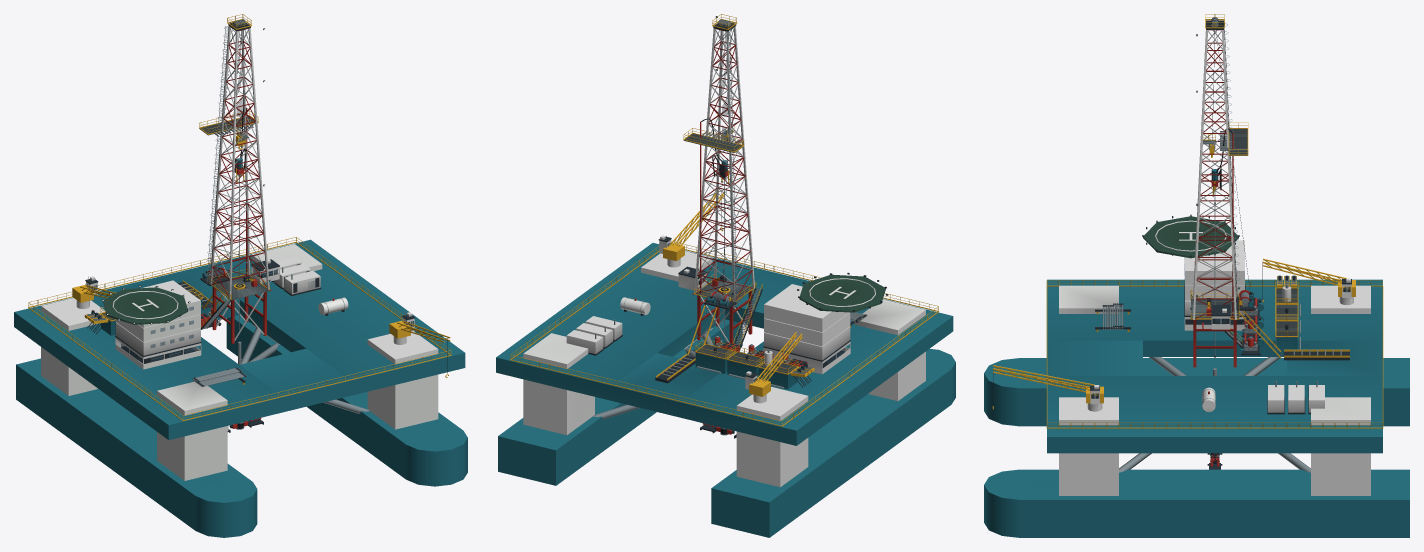
The model's file is semi_submersible_lodm.glb.
3 views of the same model, side by side, from view 1: azimuth 30°, elevation 25°; view 2: azimuth 150°, elevation 25°; view 3: azimuth 270°, elevation 25° (orthographic). The views are drawn at different scales.
Visible parts, largest first — view 1: main_deck_surface_blue, pontoons_surface_blue, columns_surface_white, derrick_surface_white, accommodation_surface_white, deck_handrails_surface_yellow, derrick_surface_red, helideck_surface_green, generators_surface_white, ladder_surface_steel, substructure_surface_red, columns_surface_steel (+4 smaller); view 2: main_deck_surface_blue, pontoons_surface_blue, columns_surface_white, accommodation_surface_white, derrick_surface_white, deck_handrails_surface_yellow, helideck_surface_green, derrick_surface_red, generators_surface_white, mud_tanks_surface_blue, ladder_surface_steel, mud_tanks_surface_yellow (+4 smaller); view 3: main_deck_surface_blue, pontoons_surface_blue, columns_surface_white, derrick_surface_white, deck_handrails_surface_yellow, accommodation_surface_white, helideck_surface_green, derrick_surface_red, generators_surface_white, columns_surface_steel, deck_crane_1_surface_yellow, mud_tanks_surface_deck (+6 smaller).
Boxes of the visible parts, bbox=[...] form: main_deck_surface_blue: bbox=[14, 239, 465, 439]; pontoons_surface_blue: bbox=[16, 315, 467, 537]; columns_surface_white: bbox=[41, 244, 438, 480]; derrick_surface_white: bbox=[210, 26, 269, 299]; accommodation_surface_white: bbox=[115, 280, 201, 369]; deck_handrails_surface_yellow: bbox=[28, 237, 451, 421]; derrick_surface_red: bbox=[211, 28, 267, 296]; helideck_surface_green: bbox=[103, 287, 188, 324]; generators_surface_white: bbox=[273, 257, 320, 294]; ladder_surface_steel: bbox=[206, 26, 228, 284]; substructure_surface_red: bbox=[212, 287, 266, 343]; columns_surface_steel: bbox=[241, 327, 369, 413]; main_deck_surface_blue: bbox=[496, 243, 953, 445]; pontoons_surface_blue: bbox=[498, 319, 955, 537]; columns_surface_white: bbox=[523, 251, 925, 487]; accommodation_surface_white: bbox=[763, 284, 850, 374]; derrick_surface_white: bbox=[694, 26, 754, 301]; deck_handrails_surface_yellow: bbox=[510, 241, 939, 426]; helideck_surface_green: bbox=[799, 274, 885, 312]; derrick_surface_red: bbox=[696, 28, 753, 301]; generators_surface_white: bbox=[566, 316, 622, 354]; mud_tanks_surface_blue: bbox=[695, 353, 797, 389]; ladder_surface_steel: bbox=[725, 32, 737, 303]; mud_tanks_surface_yellow: bbox=[695, 339, 798, 374]; main_deck_surface_blue: bbox=[1047, 279, 1382, 453]; pontoons_surface_blue: bbox=[984, 358, 1409, 537]; columns_surface_white: bbox=[1059, 285, 1370, 495]; derrick_surface_white: bbox=[1193, 30, 1236, 319]; deck_handrails_surface_yellow: bbox=[1046, 280, 1383, 428]; accommodation_surface_white: bbox=[1184, 240, 1245, 330]; helideck_surface_green: bbox=[1143, 216, 1238, 258]; derrick_surface_red: bbox=[1195, 30, 1236, 318]; generators_surface_white: bbox=[1268, 385, 1324, 412]; columns_surface_steel: bbox=[1119, 357, 1310, 472]; deck_crane_1_surface_yellow: bbox=[992, 365, 1103, 409]; mud_tanks_surface_deck: bbox=[1276, 288, 1297, 337].
Size of the model in its own units: 62 by 82.58 by 71.
